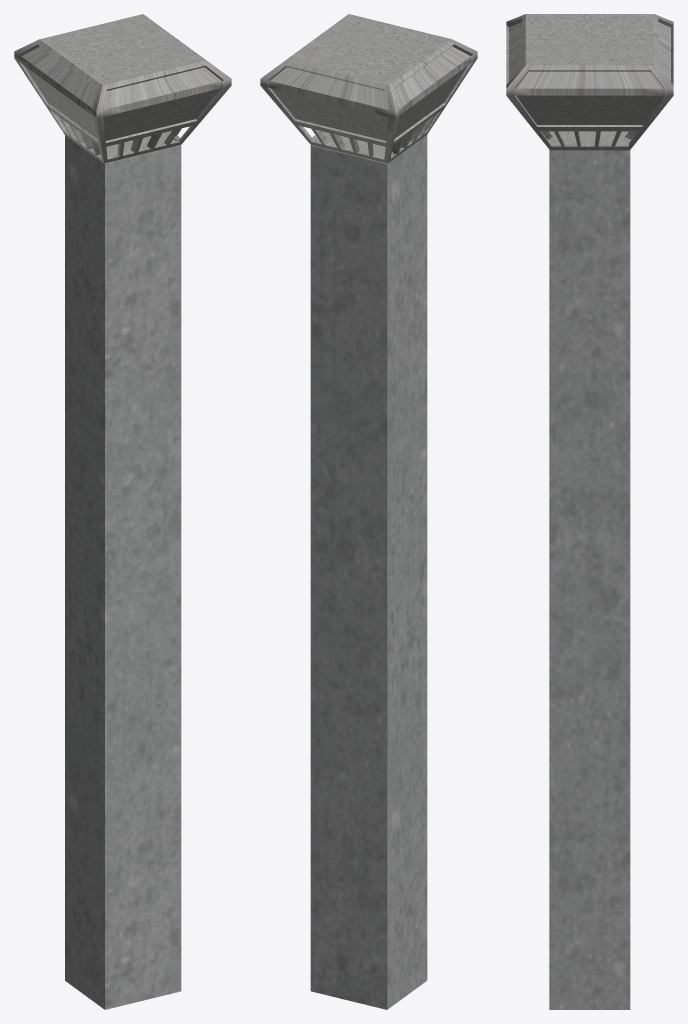
The model's file is Guard_tower.fbx.
The picture shows the model from 3 angles, left to right: view 1: azimuth 30°, elevation 25°; view 2: azimuth 150°, elevation 25°; view 3: azimuth 270°, elevation 25°; orthographic projection.
Parts seen in each view (by area): view 1: guard_tower, pCube41; view 2: guard_tower, pCube41; view 3: guard_tower, pCube41.
Boxes of the visible parts, x1,y1,x2,y2 form: guard_tower: (65, 135, 181, 1009); pCube41: (14, 14, 231, 163); guard_tower: (310, 135, 427, 1009); pCube41: (260, 14, 477, 163); guard_tower: (549, 150, 630, 1009); pCube41: (506, 14, 673, 150).
Bounding box in the file's own units: 19.06 × 126 × 20.14.
